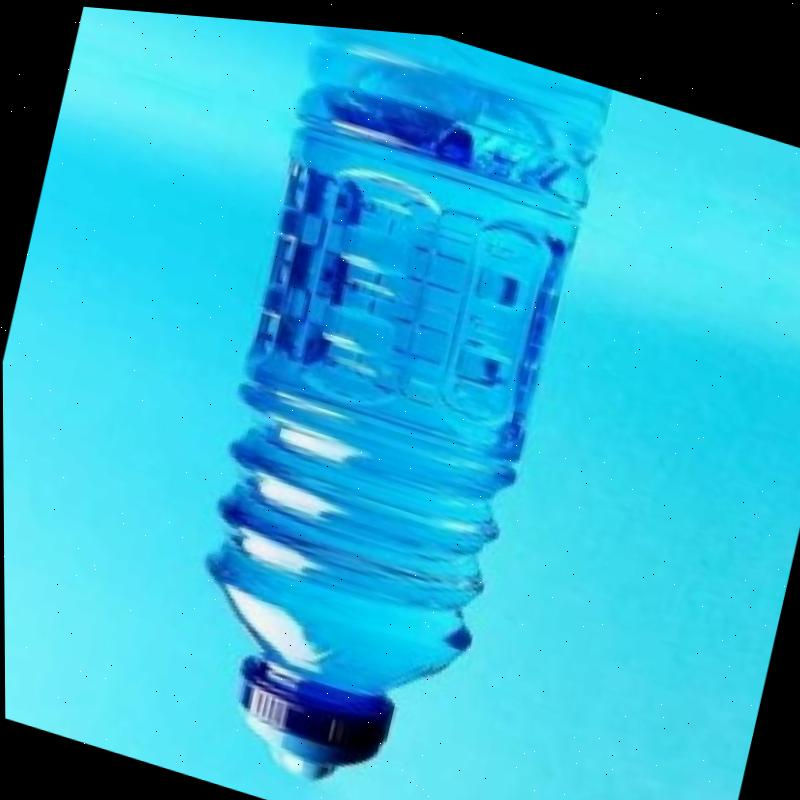botella: (142, 9, 618, 800)
